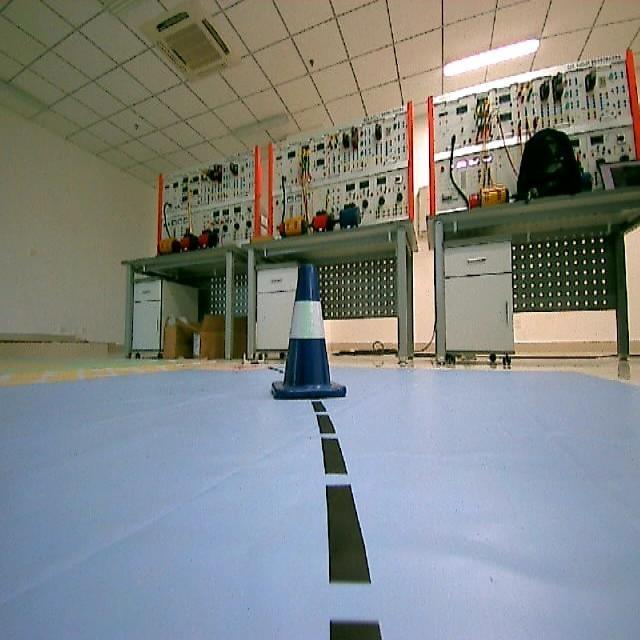obstacle: (272, 258, 352, 407)
